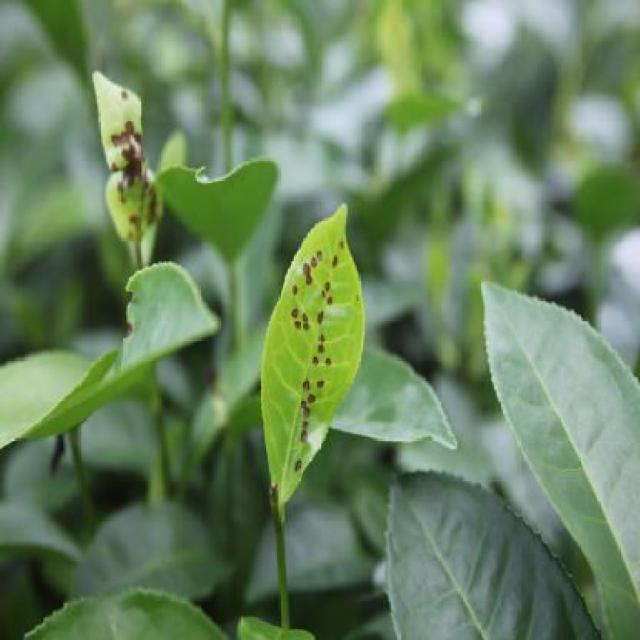Tea Mosquito bug infested leaf: (243, 205, 380, 503), (82, 57, 163, 268)
